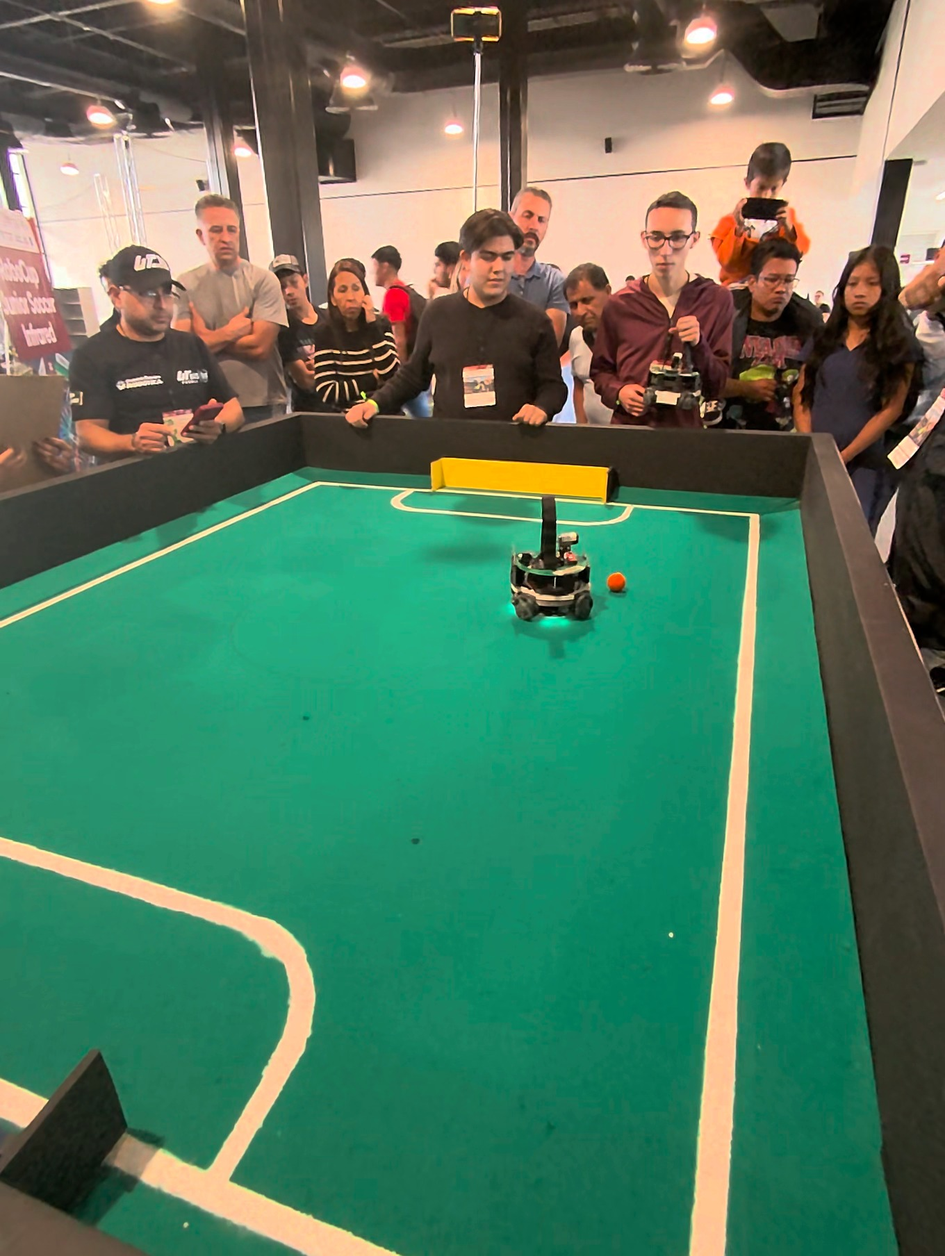Robot: (501, 509, 591, 632)
pelota: (598, 569, 637, 600)
